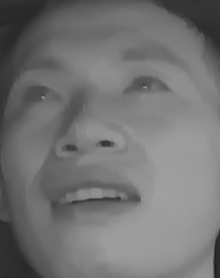eye: (123, 69, 173, 102), (20, 81, 62, 108)
mouth: (40, 165, 142, 226)
